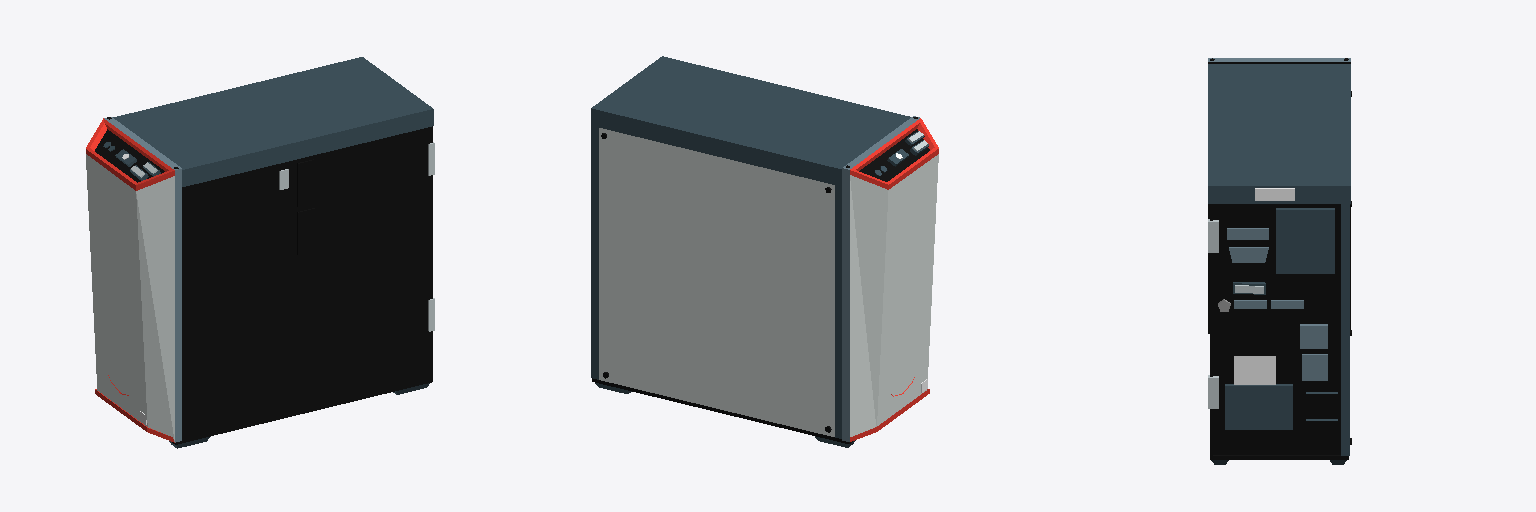
3 views of the same model, side by side, from view 1: azimuth 30°, elevation 25°; view 2: azimuth 150°, elevation 25°; view 3: azimuth 270°, elevation 25° (orthographic).
Parts seen in each view (by area): view 1: group[number redacted], group[number redacted], group[number redacted], group[number redacted], group[number redacted], group[number redacted], group[number redacted]; view 2: group[number redacted], group[number redacted], group[number redacted], group[number redacted], group[number redacted], group[number redacted], group[number redacted]; view 3: group[number redacted], group[number redacted], group[number redacted], group[number redacted], group[number redacted], group[number redacted], group[number redacted], group[number redacted], group[number redacted], group[number redacted], group[number redacted], group[number redacted] (+2 smaller).
Boxes of the visible parts, x1=… form: group[number redacted]: x1=182, y1=126, x2=432, y2=439; group[number redacted]: x1=86, y1=118, x2=174, y2=441; group[number redacted]: x1=113, y1=57, x2=433, y2=186; group[number redacted]: x1=104, y1=117, x2=181, y2=442; group[number redacted]: x1=172, y1=379, x2=432, y2=444; group[number redacted]: x1=297, y1=159, x2=314, y2=207; group[number redacted]: x1=297, y1=208, x2=314, y2=254; group[number redacted]: x1=599, y1=128, x2=834, y2=436; group[number redacted]: x1=850, y1=118, x2=938, y2=436; group[number redacted]: x1=591, y1=56, x2=910, y2=186; group[number redacted]: x1=842, y1=116, x2=919, y2=441; group[number redacted]: x1=591, y1=126, x2=598, y2=379; group[number redacted]: x1=835, y1=185, x2=841, y2=438; group[number redacted]: x1=592, y1=378, x2=852, y2=443; group[number redacted]: x1=1208, y1=64, x2=1350, y2=203; group[number redacted]: x1=1213, y1=204, x2=1340, y2=454; group[number redacted]: x1=1276, y1=208, x2=1334, y2=273; group[number redacted]: x1=1225, y1=384, x2=1292, y2=429; group[number redacted]: x1=1341, y1=204, x2=1349, y2=455; group[number redacted]: x1=1234, y1=356, x2=1275, y2=384; group[number redacted]: x1=1208, y1=58, x2=1350, y2=333; group[number redacted]: x1=1306, y1=392, x2=1337, y2=414; group[number redacted]: x1=1306, y1=419, x2=1337, y2=441; group[number redacted]: x1=1302, y1=354, x2=1327, y2=380; group[number redacted]: x1=1300, y1=324, x2=1327, y2=348; group[number redacted]: x1=1210, y1=455, x2=1348, y2=459.
Bounding box in the file's own units: 1.94 × 1.8 × 0.8277.